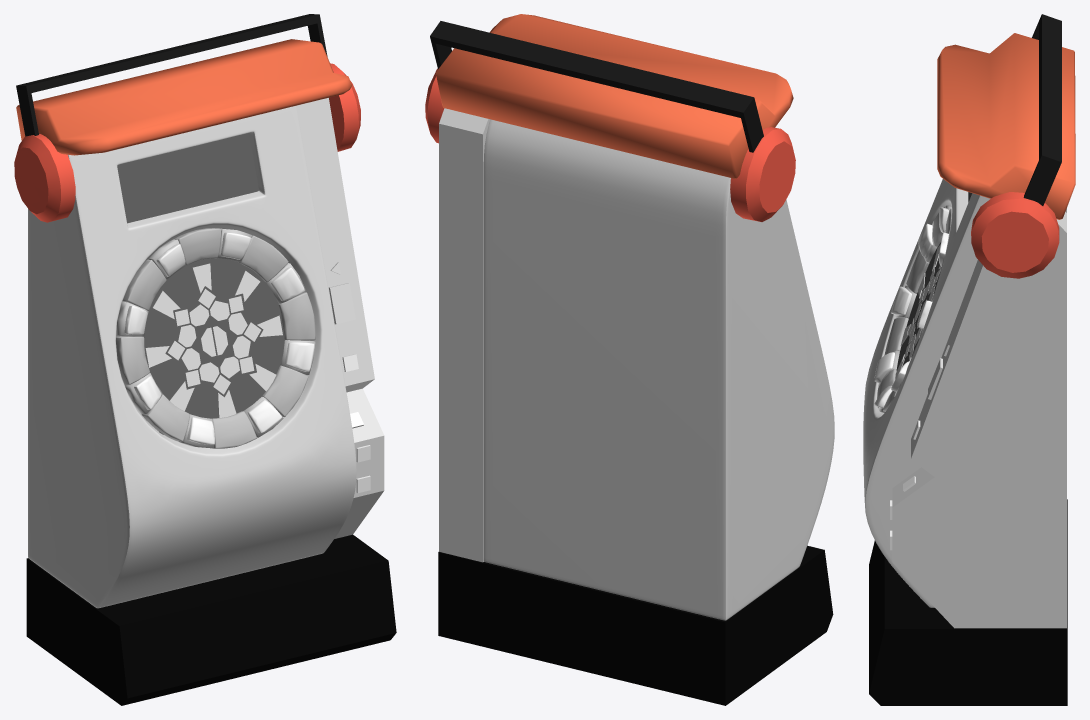
The model's file is Framework.fbx.
3 views of the same model, side by side, from view 1: azimuth 30°, elevation 25°; view 2: azimuth 150°, elevation 25°; view 3: azimuth 270°, elevation 25° (orthographic). The views are drawn at different scales.
Parts seen in each view (by area): view 1: Body P1, Base P1, Cap, Display P1, Side Box, Ring, Buttons, HF top, HF left, Buttons Botton, HF right, Enter; view 2: Body P1, Base P1, Cap, Side Box, HF top, HF left, HF right; view 3: Side Box, Base P1, Cap, Body P1, HF right, HF top, Buttons, Ring, Display P1, Buttons Botton.
Boxes of the visible parts, x1,y1,x2,y2 form: Body P1: (28, 106, 356, 608); Base P1: (26, 534, 396, 705); Cap: (16, 39, 352, 155); Display P1: (117, 133, 284, 434); Side Box: (296, 98, 384, 538); Ring: (116, 228, 315, 448); Buttons: (124, 232, 314, 444); HF top: (16, 14, 327, 136); HF left: (14, 134, 75, 222); Buttons Botton: (116, 228, 315, 448); HF right: (329, 63, 360, 151); Enter: (329, 283, 355, 324); Body P1: (483, 119, 834, 620); Base P1: (438, 545, 833, 705); Cap: (436, 14, 793, 178); Side Box: (439, 108, 489, 562); HF top: (430, 21, 763, 152); HF left: (730, 127, 795, 221); HF right: (425, 68, 444, 143); Side Box: (892, 212, 1066, 628); Base P1: (869, 499, 1067, 705); Cap: (937, 33, 1075, 219); Body P1: (863, 179, 1066, 607); HF right: (971, 192, 1059, 278); HF top: (1023, 14, 1061, 205); Buttons: (874, 207, 948, 408); Ring: (877, 206, 952, 411); Display P1: (896, 192, 972, 370); Buttons Botton: (878, 205, 951, 413).
Size of what is drawn, in the model's own units: 120 by 206 by 71.43.
